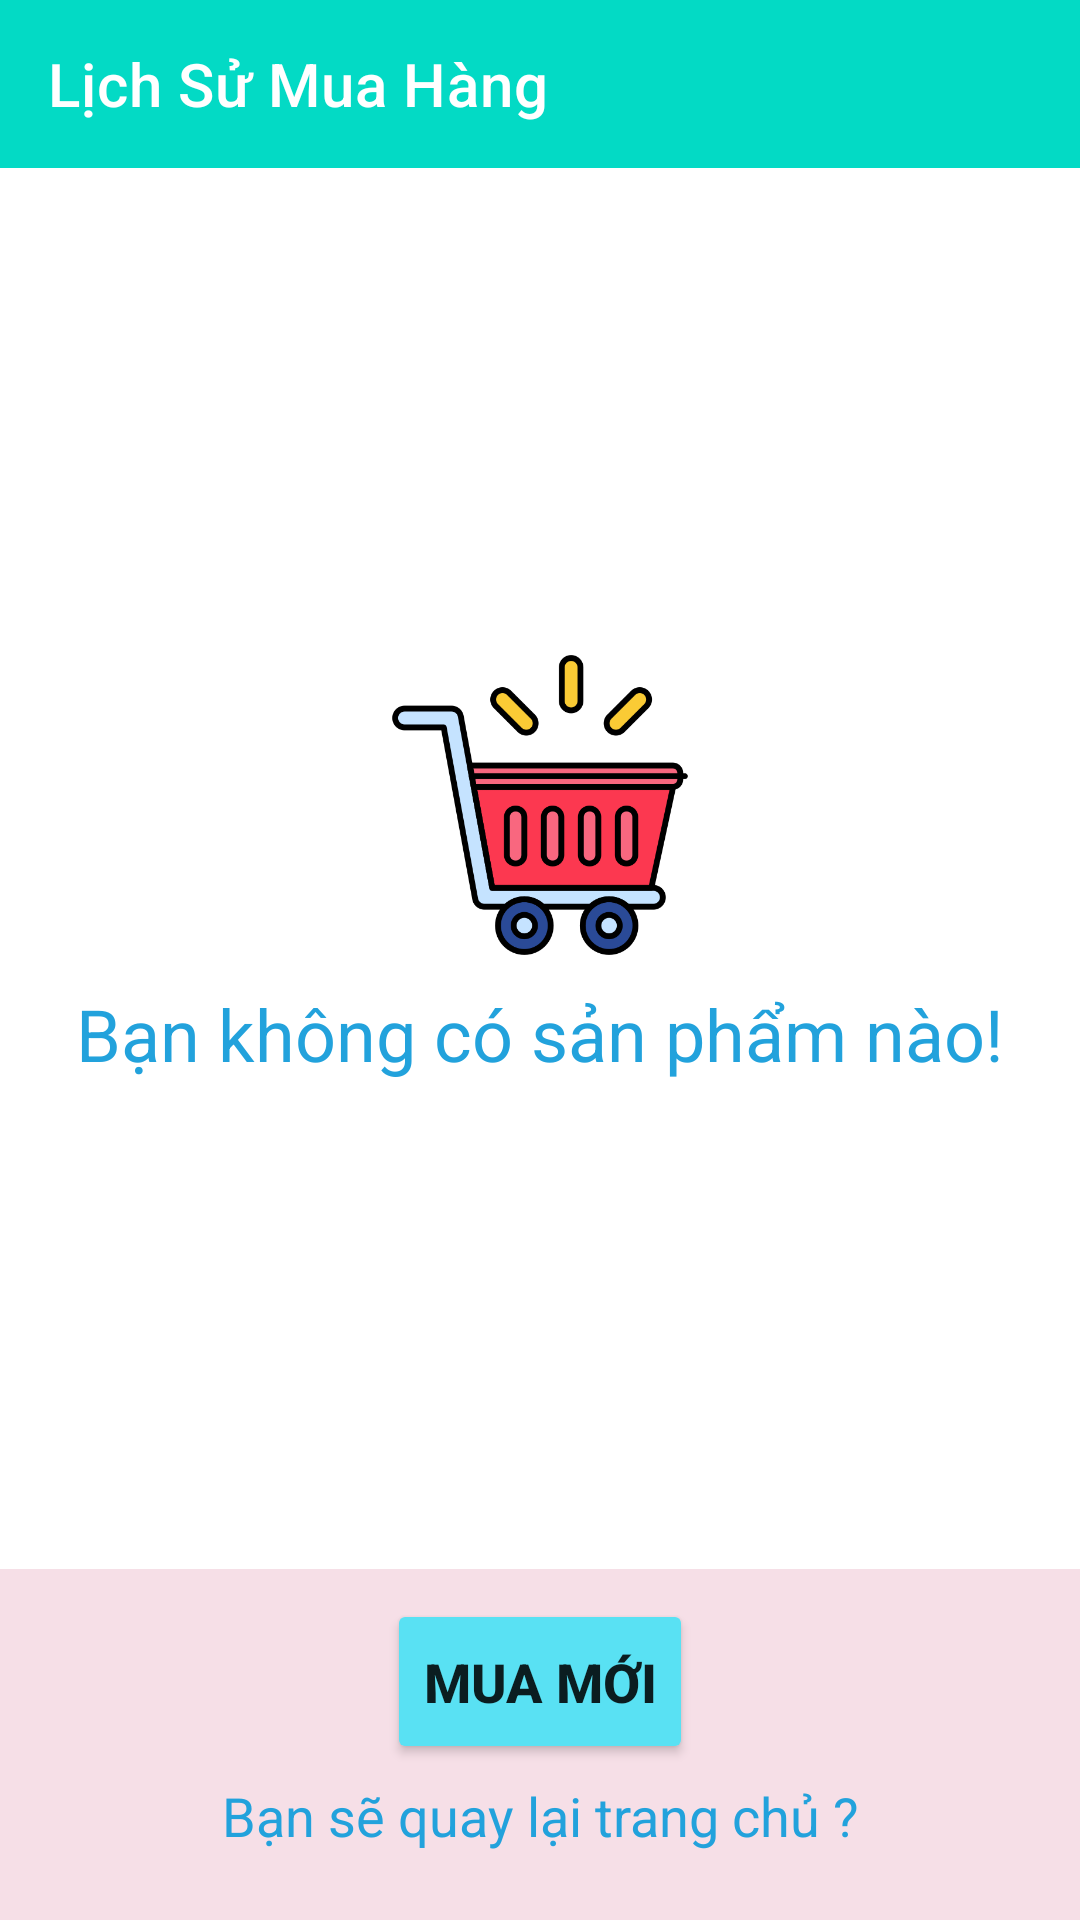

Point at icon controls on the screen. Image size 1080×1920, points as (x,y).
cart null: (540,805)
